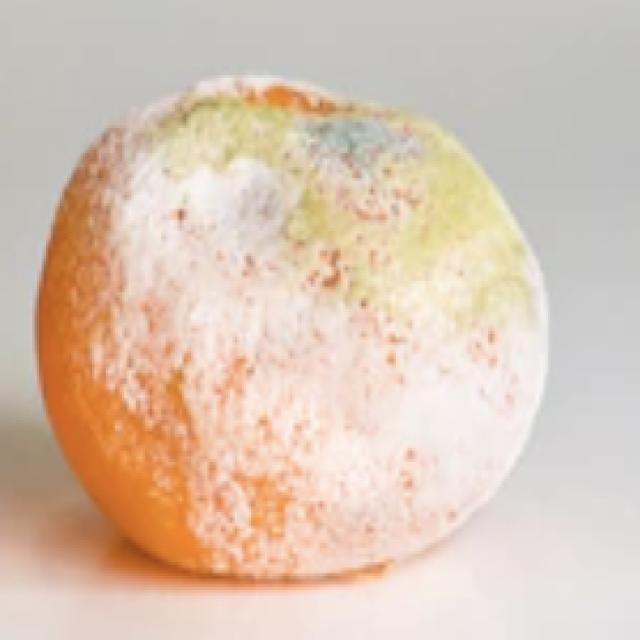sedikit-busuk: (37, 78, 547, 580)
